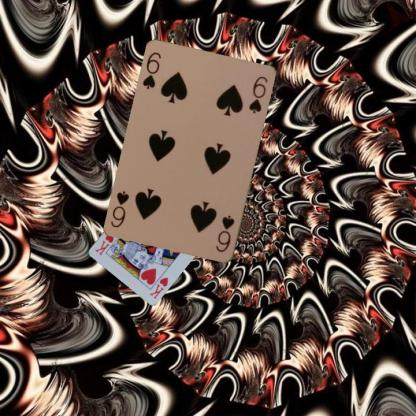6s: (214, 212, 236, 254), (140, 50, 162, 90)
Kh: (147, 274, 169, 300)
